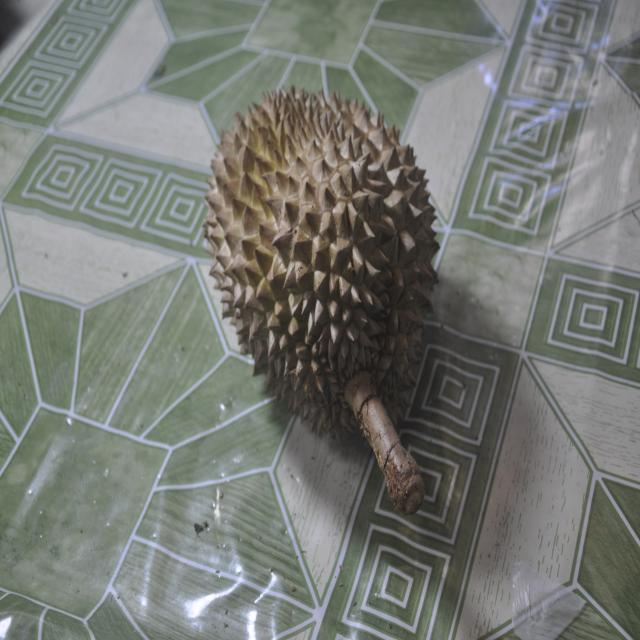mature: (204, 88, 439, 514)
